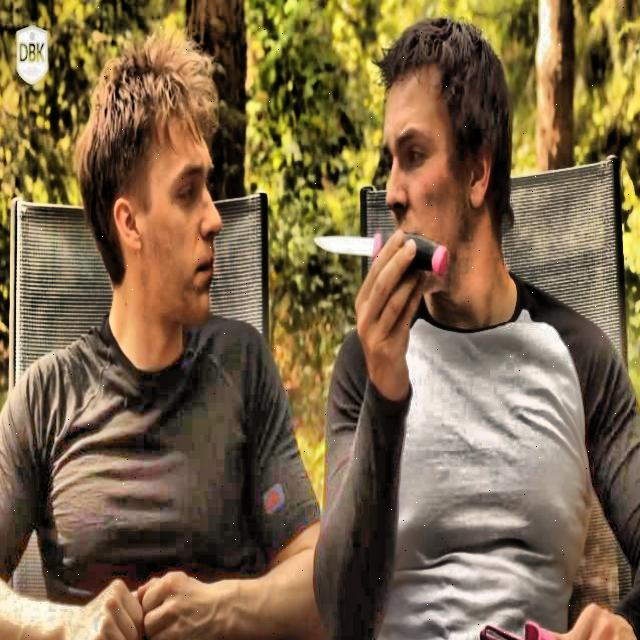knife: (317, 236, 452, 275)
